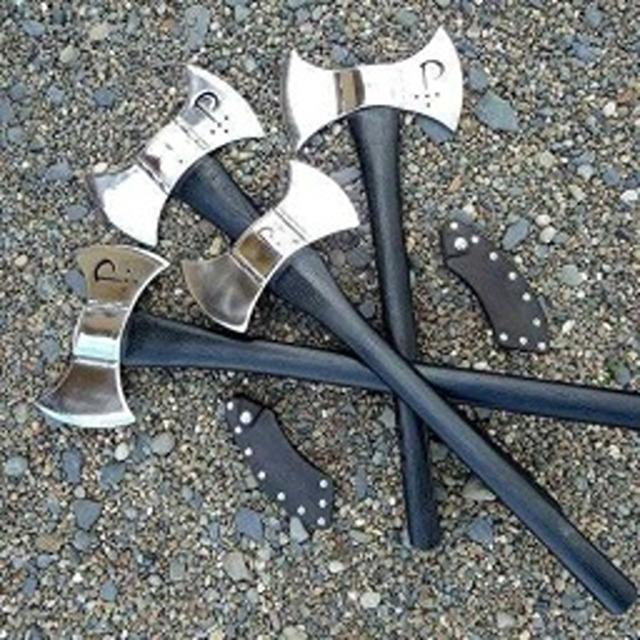ax: (29, 226, 640, 438), (272, 22, 476, 566)
